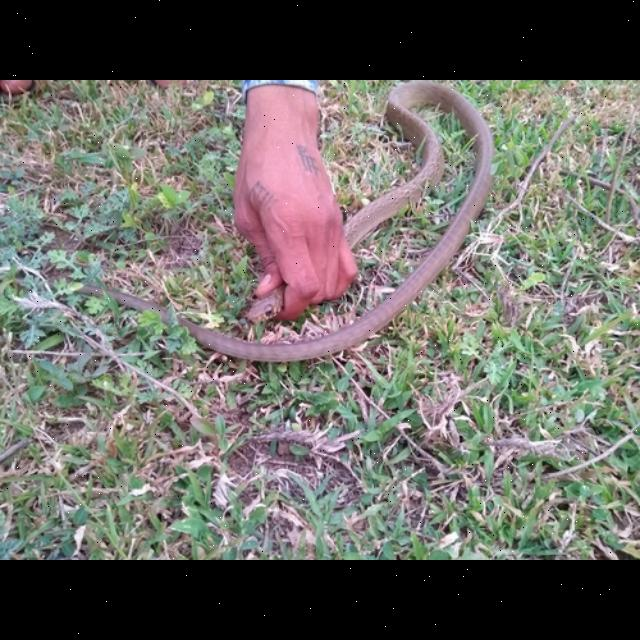snake: (34, 82, 506, 364)
